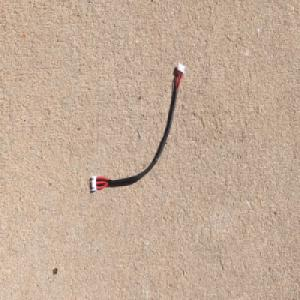Wire: (91, 60, 188, 195)
